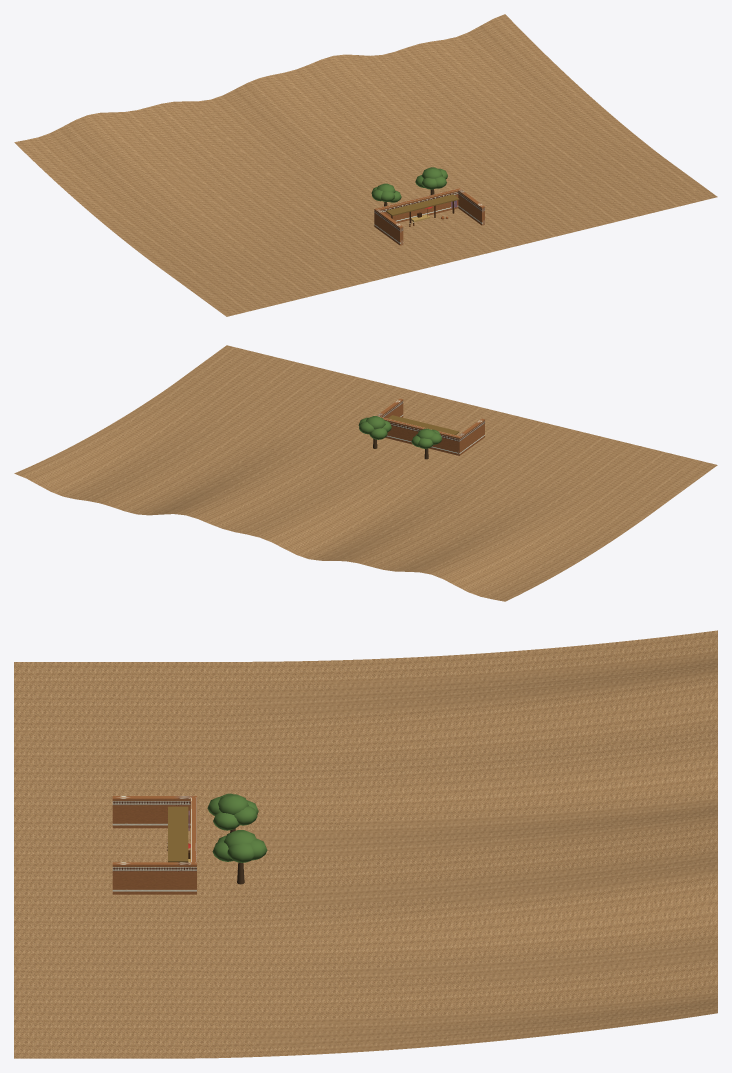
The model's file is palais.glb.
The picture shows the model from 3 angles, top to bottom: view 1: azimuth 30°, elevation 25°; view 2: azimuth 150°, elevation 25°; view 3: azimuth 270°, elevation 25°; orthographic projection. The views are drawn at different scales.
Parts seen in each view (by area): view 1: sol, decor; view 2: sol, decor; view 3: sol, decor.
Boxes of the visible parts, x1=… form: sol: x1=14, y1=14, x2=717, y2=316; decor: x1=371, y1=167, x2=484, y2=245; sol: x1=14, y1=345, x2=717, y2=601; decor: x1=358, y1=398, x2=484, y2=459; sol: x1=14, y1=630, x2=717, y2=1058; decor: x1=112, y1=793, x2=267, y2=894.
Size of the model in its own units: 120 by 7.36 by 90.
13 materials, 4 textured.
